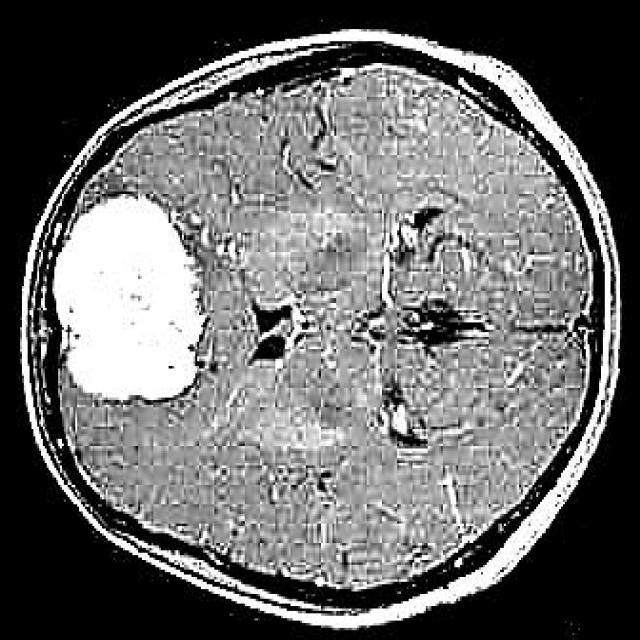tumor: (53, 194, 205, 405)
